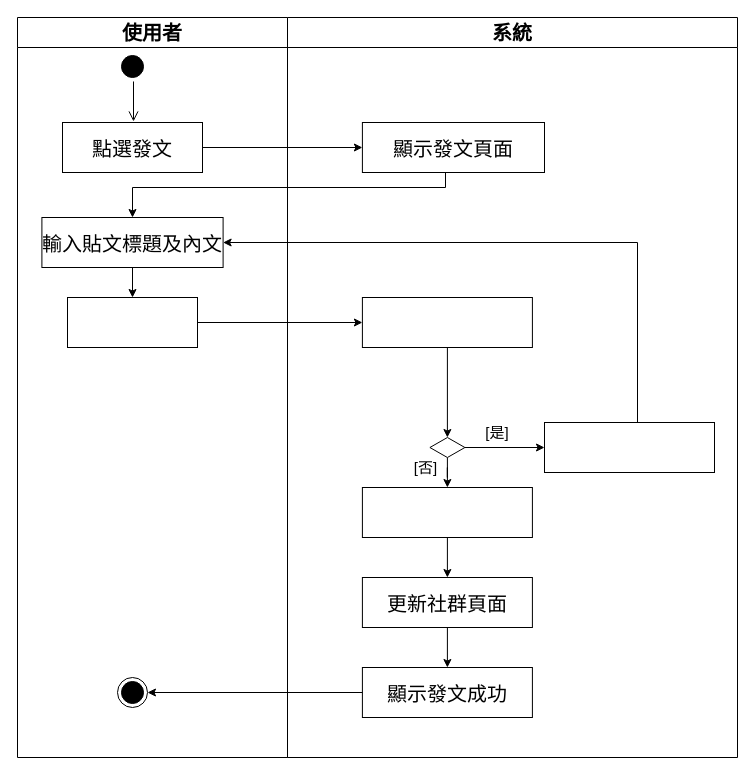
This 755x775 diagram has some shape labels left out. The shapes that lost their labels are listed below. From the top down, each one's centre as x and y in pixels, then its label:
At pixel 132 322: "點擊提交".
At pixel 446 322: "檢查內容是否為空".
At pixel 629 447: "提示請輸入內容".
At pixel 446 512: "儲存貼文".
